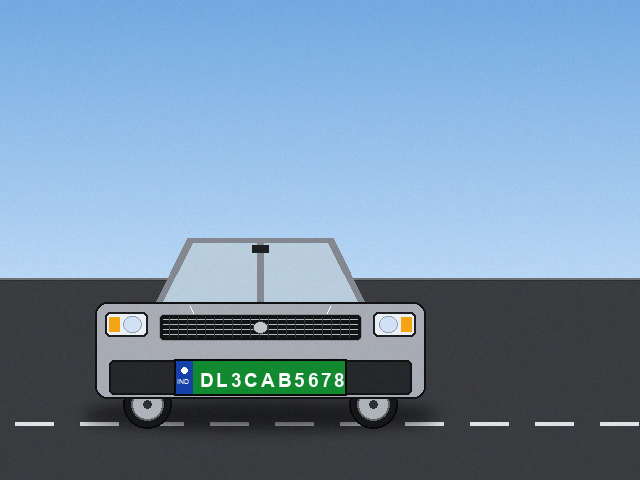licence: (174, 359, 346, 395)
